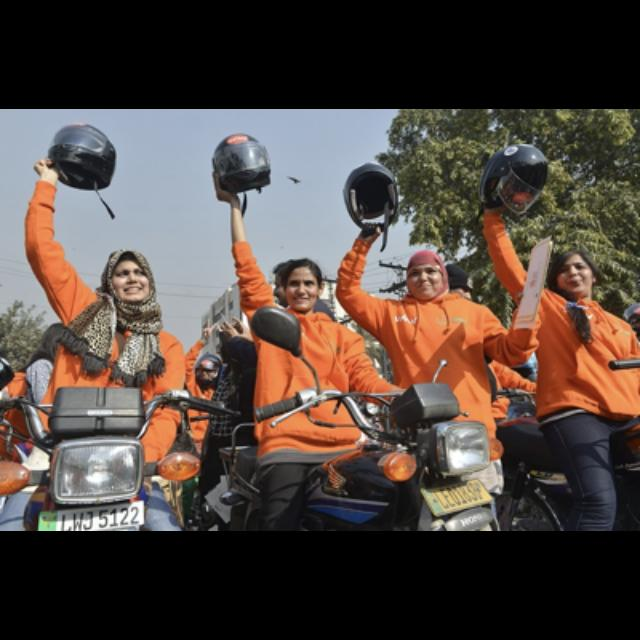Without Helmet: (96, 243, 164, 315), (274, 254, 326, 312), (400, 248, 452, 304), (554, 248, 602, 300)
